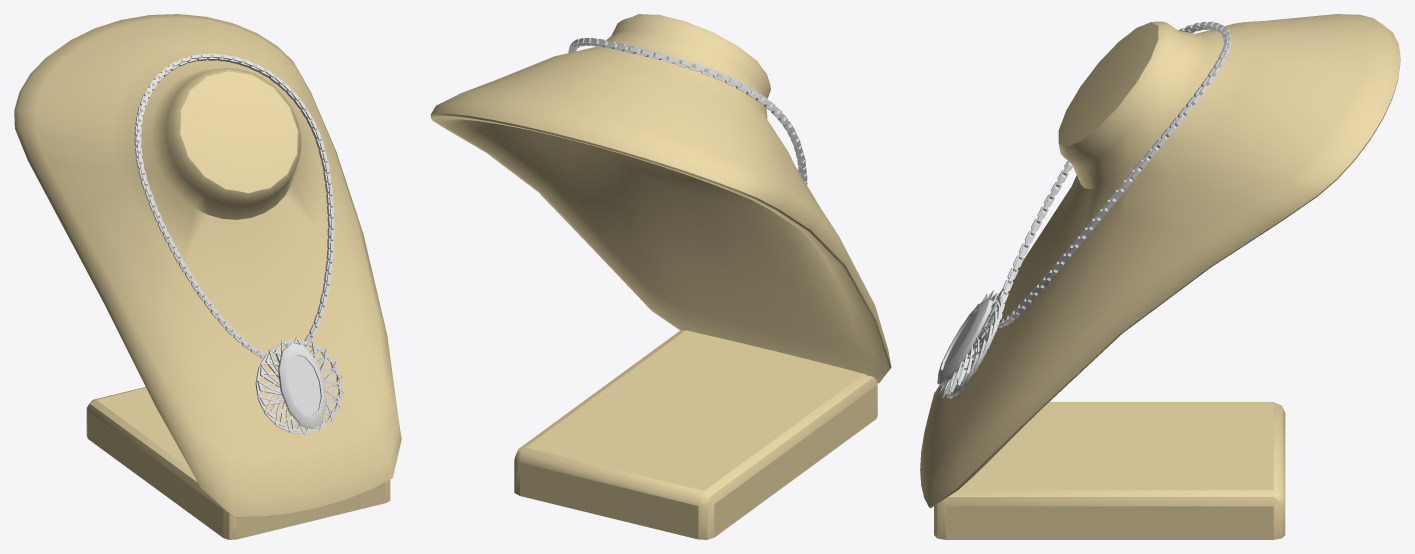
File: Necklace_15.fbx
3 renders of one model, left to right at view 1: azimuth 30°, elevation 25°; view 2: azimuth 150°, elevation 25°; view 3: azimuth 270°, elevation 25°, orthographic. The views are drawn at different scales.
Parts seen in each view (by area): view 1: SM_Stand_Necklace_12, SM_Cullon_3, SM_Necklace_13; view 2: SM_Stand_Necklace_12, SM_Necklace_13; view 3: SM_Stand_Necklace_12, SM_Necklace_13, SM_Cullon_3.
Boxes of the visible parts, x1=… form: SM_Stand_Necklace_12: x1=14, y1=14, x2=401, y2=539; SM_Cullon_3: x1=255, y1=337, x2=345, y2=435; SM_Necklace_13: x1=134, y1=53, x2=334, y2=362; SM_Stand_Necklace_12: x1=430, y1=14, x2=891, y2=539; SM_Necklace_13: x1=568, y1=38, x2=807, y2=184; SM_Stand_Necklace_12: x1=920, y1=14, x2=1400, y2=539; SM_Necklace_13: x1=998, y1=21, x2=1232, y2=327; SM_Cullon_3: x1=937, y1=290, x2=1003, y2=398.
Bounding box in the file's own units: 22.51 × 29.29 × 27.78.
